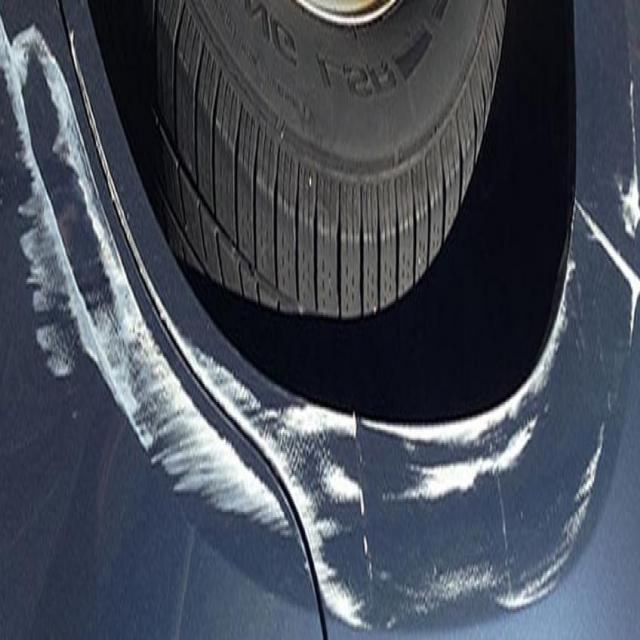scratch: (7, 16, 350, 640), (358, 172, 636, 640)
